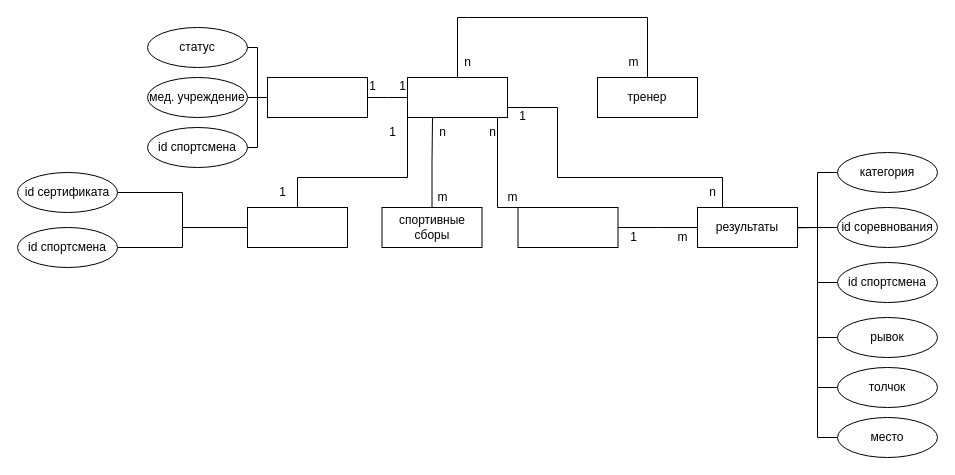
This 955x475 diagram has some shape labels left out. Each missing label, with the box of its shape:
антидопинг: (246, 206, 348, 248)
допуск к соревнованиям: (266, 76, 368, 118)
соревнования: (517, 206, 618, 248)
спортсмен: (406, 76, 508, 118)
